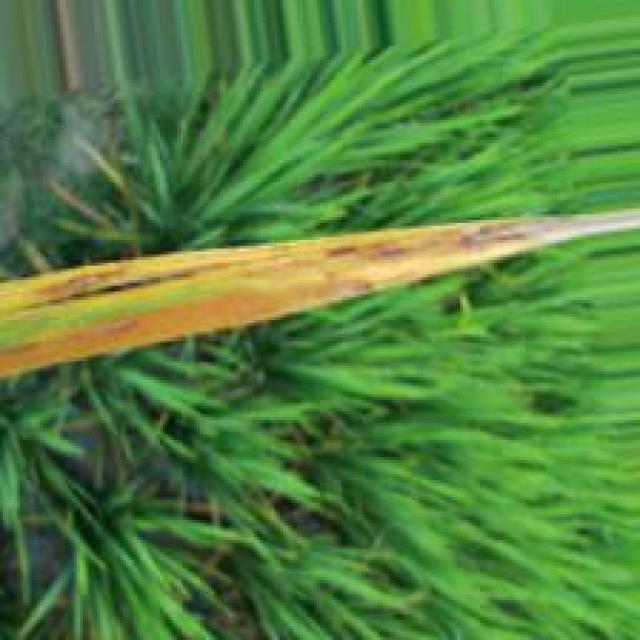Bacterial_Leaf_Blight: (0, 201, 640, 379)
